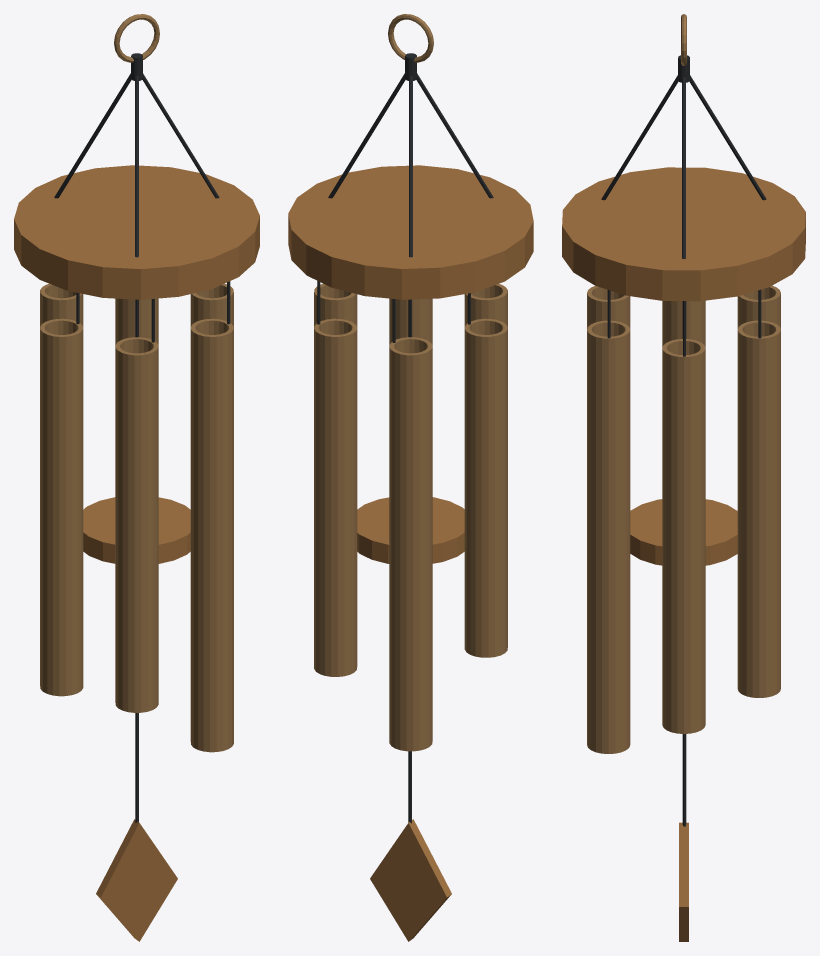
The model's file is NEW_RECOVERY_096_LOD1.glb.
3 views of the same model, side by side, from view 1: azimuth 30°, elevation 25°; view 2: azimuth 150°, elevation 25°; view 3: azimuth 270°, elevation 25° (orthographic).
Visible parts, largest first — view 1: Wind chime; view 2: Wind chime; view 3: Wind chime.
Part boxes in pixels (x1,y1,x2,y2): Wind chime: (14,14,259,941); Wind chime: (288,14,533,941); Wind chime: (562,14,805,941).
Size of the model in its own units: 0.5746 by 2.41 by 0.5746.
